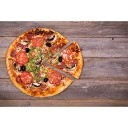pepperonipizza: (6, 27, 84, 97)
